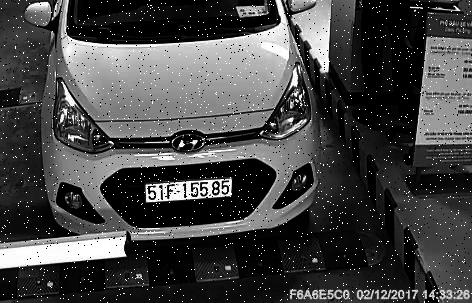License-plate: (143, 176, 256, 211)
